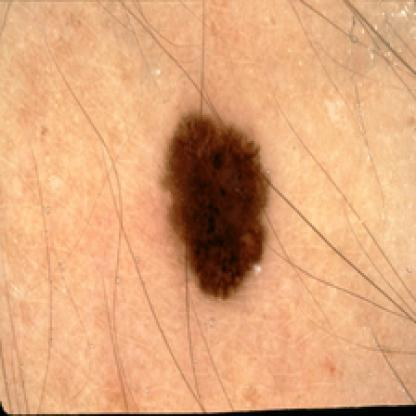malignant: (163, 102, 275, 303)
